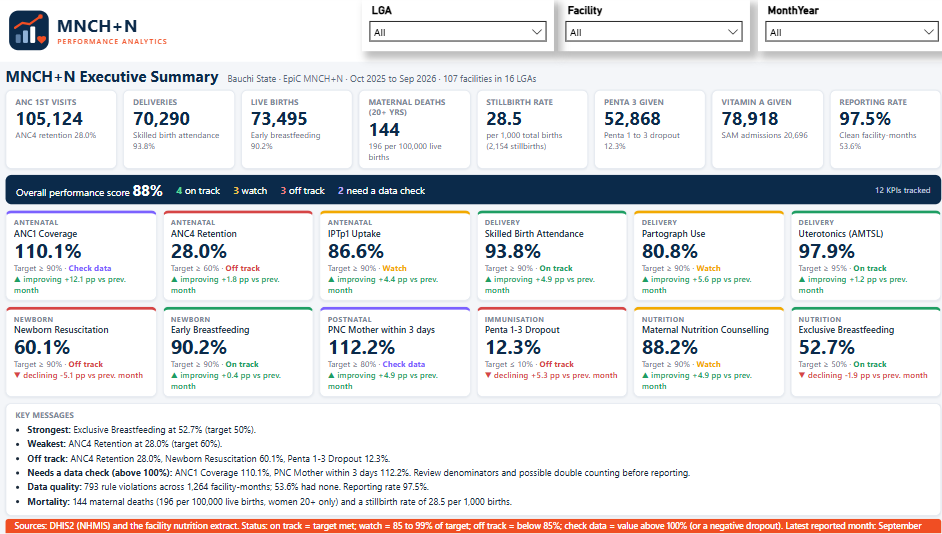

What the dashboard file says about the page in this screenshot:
{"tool":"powerbi","page":{"name":"Executive Summary","canvas":[1280,720],"ordinal":2},"visuals":[{"type":"htmlContent443BE3AD55E043BF878BED274D3A6855","fields":{"content":["KPI Targets.Exec Summary HTML"]},"box":[0,83.7,1280.6,636.3],"z":0},{"type":"slicer","fields":{"Values":["Factility.Facility"]},"box":[753.2,6.6,255.1,67.7],"z":1000},{"type":"slicer","fields":{"Values":["Factility.LGA"]},"box":[492.8,6.6,255.1,67.7],"z":2000},{"type":"slicer","fields":{"Values":["Calendar.MonthYear"]},"box":[1018.9,6.6,249.7,67.7],"z":3000},{"type":"htmlContent443BE3AD55E043BF878BED274D3A6855","fields":{"content":["KPI Targets.Brand Logo SVG"]},"box":[14,12,245,60],"z":3002}]}

Visuals, with their boxes in screenshot pixels (x1, y1, x2, y2), scaled from the page's 1280x720 canvas onto the 942x534 screenshot:
htmlContent443BE3AD55E043BF878BED274D3A6855 - KPI Targets.Exec Summary HTML: region(0, 62, 941, 533)
slicer - Factility.Facility: region(554, 5, 742, 55)
slicer - Factility.LGA: region(363, 5, 550, 55)
slicer - Calendar.MonthYear: region(750, 5, 934, 55)
htmlContent443BE3AD55E043BF878BED274D3A6855 - KPI Targets.Brand Logo SVG: region(10, 9, 191, 53)
